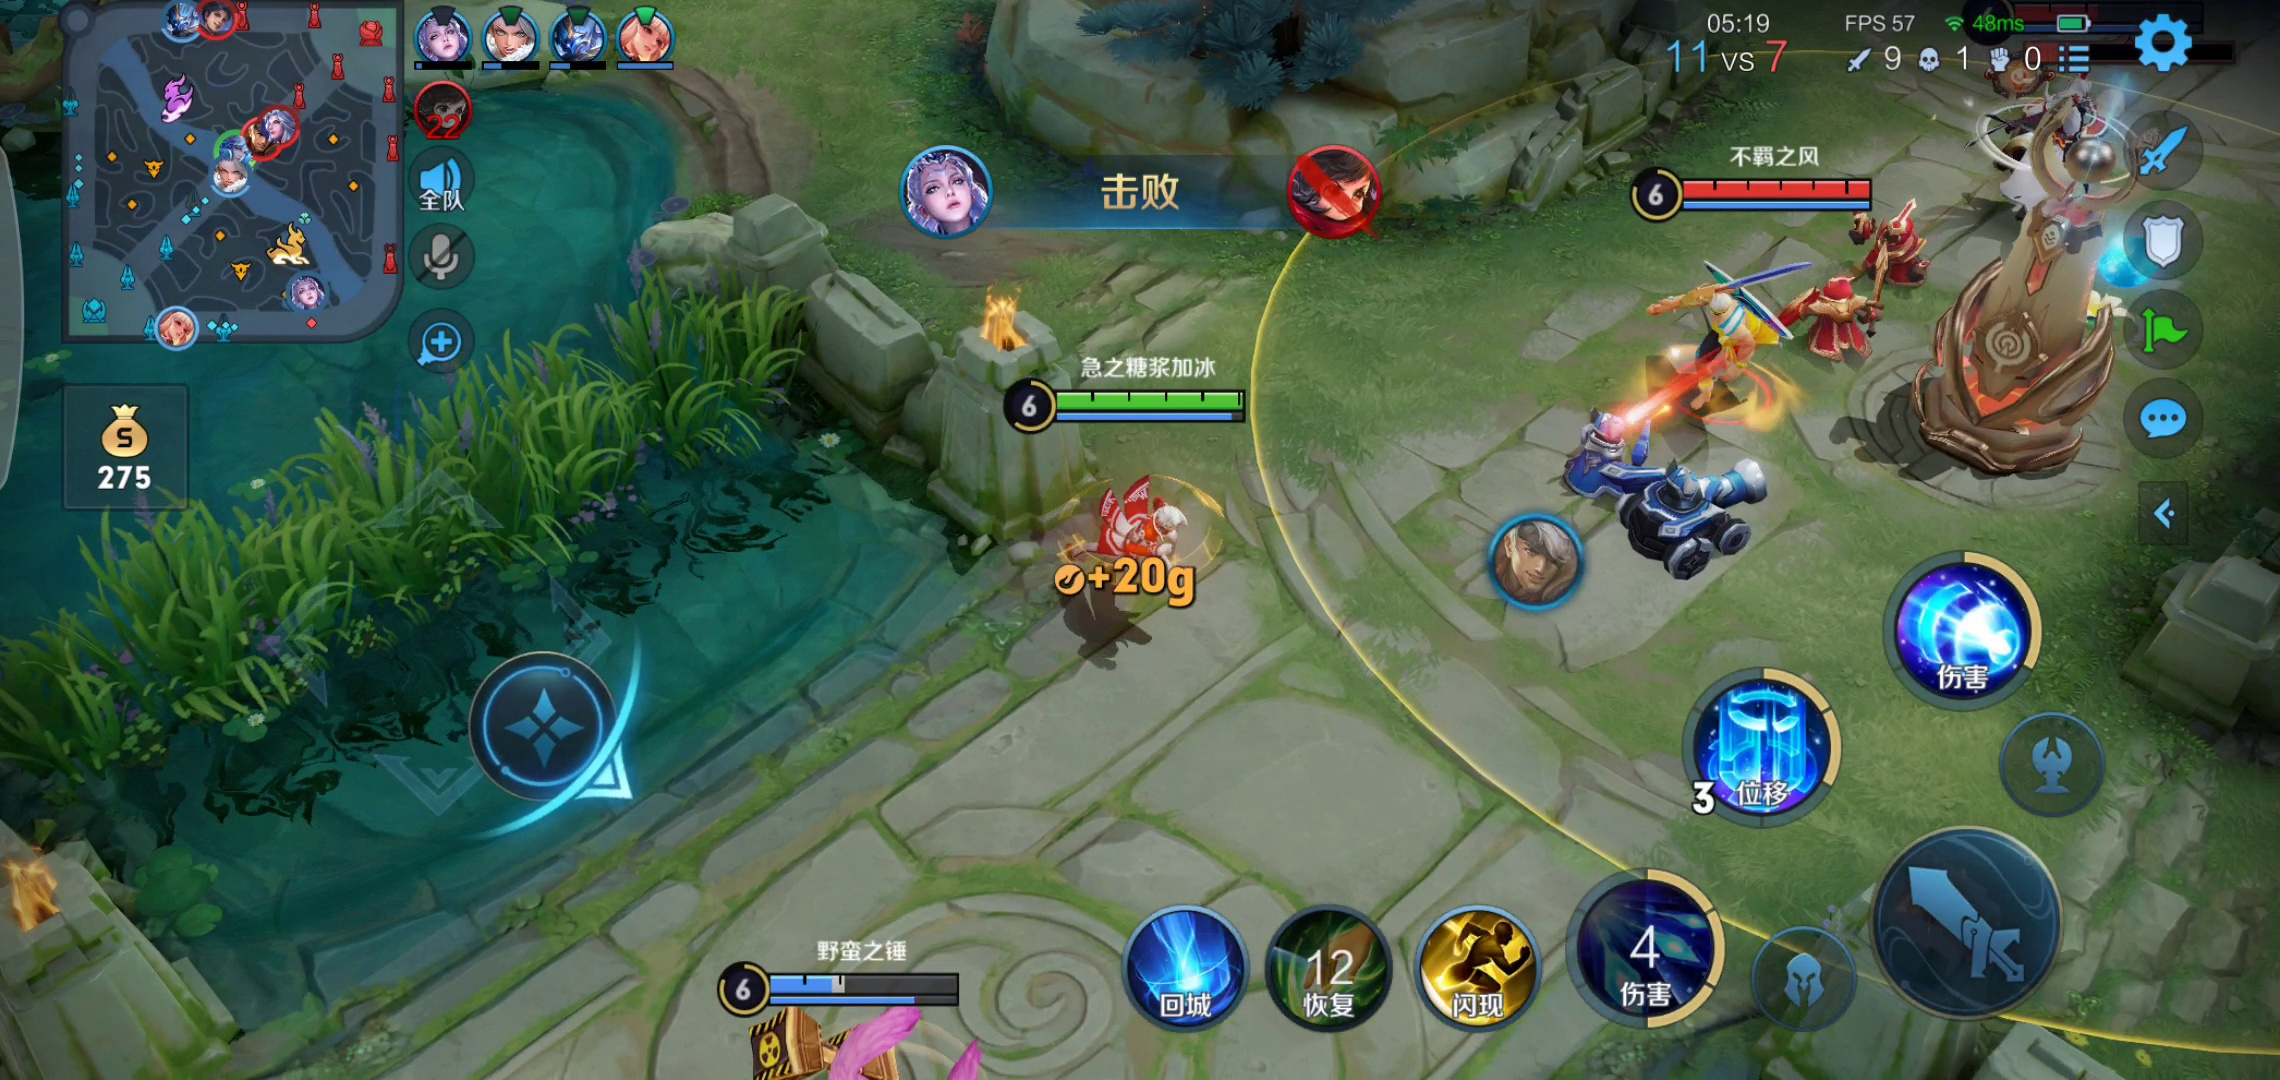grass: (20, 283, 819, 789)
hero: (1045, 464, 1261, 653), (718, 993, 986, 1080), (1652, 266, 1774, 403)
soldier: (1649, 464, 1770, 573), (1831, 205, 1957, 294), (1553, 401, 1652, 493), (1799, 273, 1874, 360)
tower: (1989, 110, 2107, 499)
